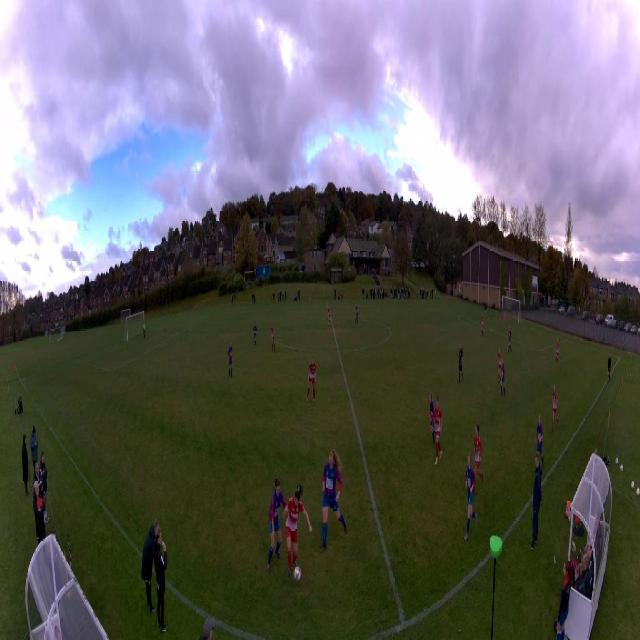ball: (293, 566, 302, 582)
player: (319, 447, 348, 554), (282, 482, 313, 577), (266, 477, 288, 573), (464, 452, 478, 543), (431, 396, 444, 466), (473, 424, 483, 485), (306, 355, 317, 407), (535, 414, 545, 468), (428, 392, 436, 444), (552, 387, 558, 434), (458, 343, 464, 384), (497, 350, 502, 389), (500, 360, 505, 398), (228, 341, 233, 378), (270, 324, 276, 352), (507, 328, 512, 353), (556, 338, 560, 365), (253, 323, 257, 347), (355, 305, 359, 324), (327, 306, 331, 324), (503, 312, 506, 329), (143, 322, 146, 339), (482, 315, 484, 336)
